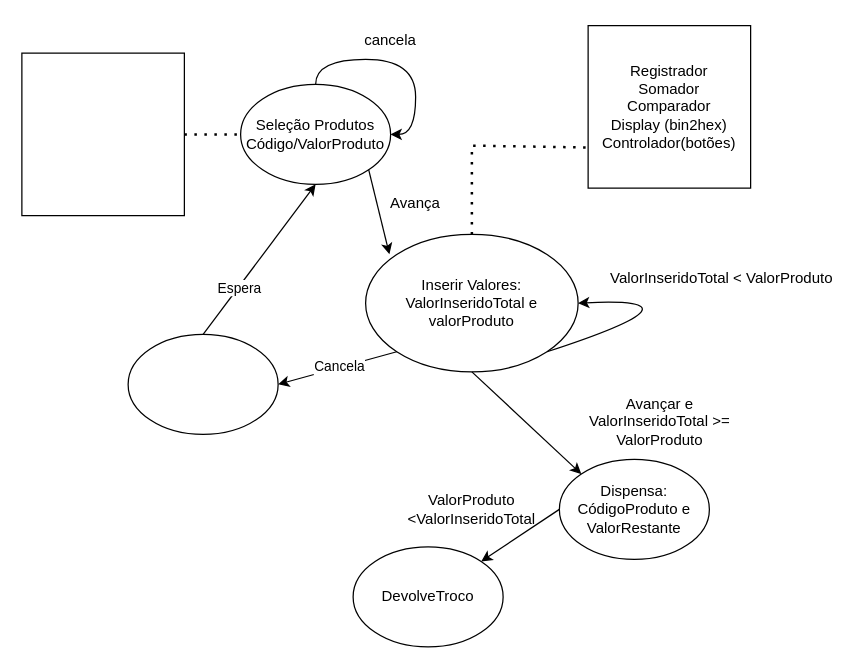
Some shapes in this 863 by 669 pixel diagram are drawn without their labels. The centre of each missing label's shape, as x and y in pixels:
"DevolverInserido: ValorInseridoTotal e ValorProduto" belongs at [202,383].
"SW Look-up Table Display Hex Controlador(botões)" belongs at [102,134].
